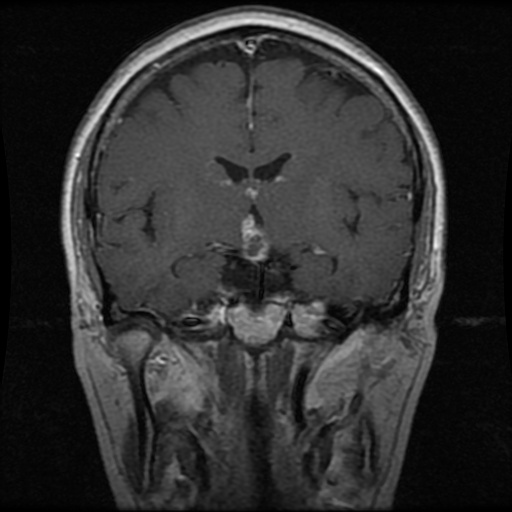pituitary: (241, 217, 269, 257)
